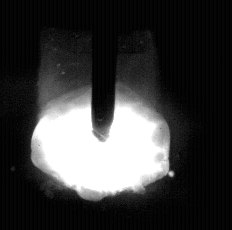arame: (92, 0, 116, 142)
poca: (31, 0, 171, 230)
